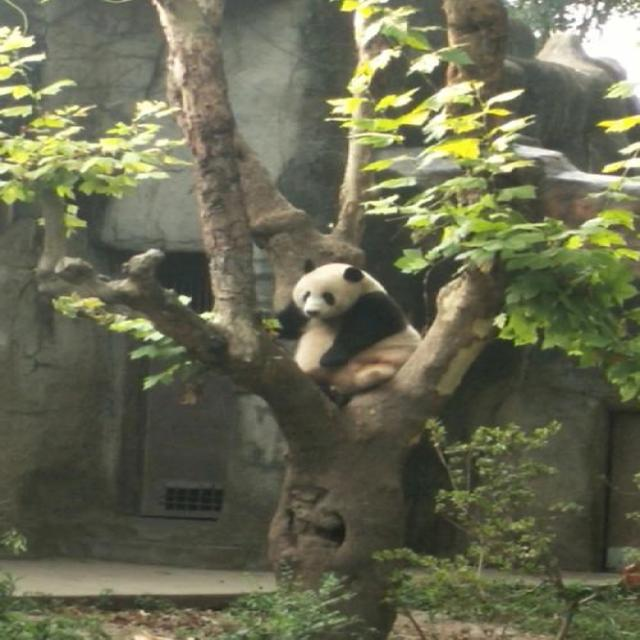panda: (269, 250, 429, 406)
